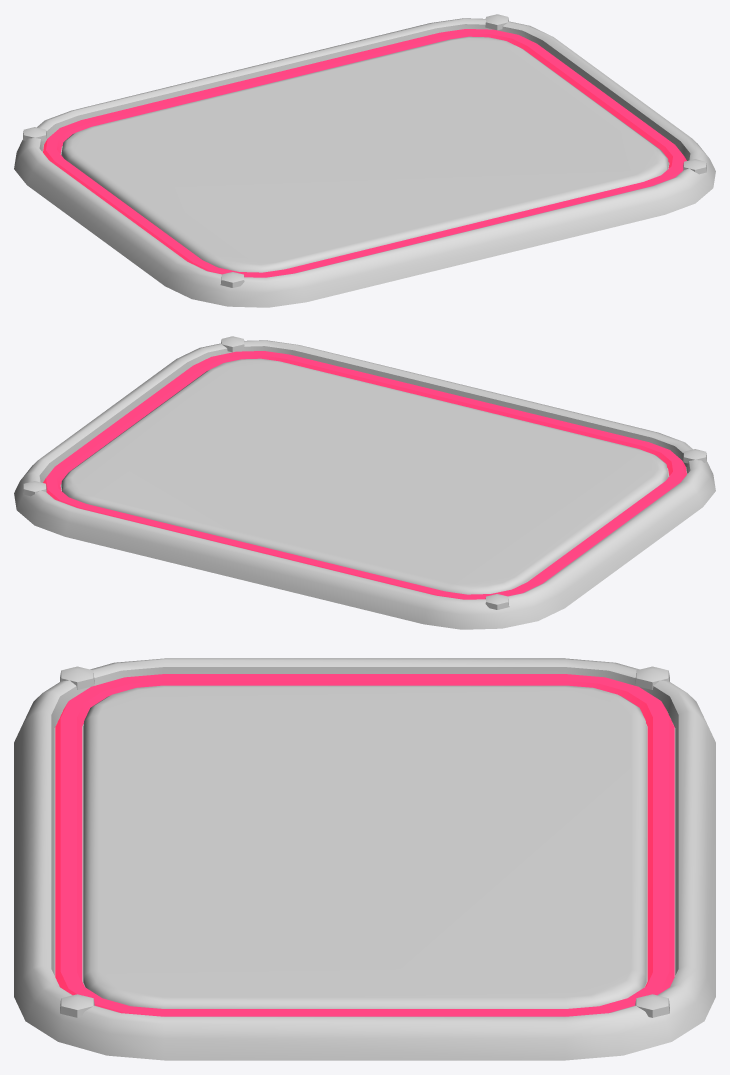
The model's file is Hub_Pad.fbx.
The picture shows the model from 3 angles, top to bottom: view 1: azimuth 30°, elevation 25°; view 2: azimuth 150°, elevation 25°; view 3: azimuth 270°, elevation 25°; orthographic projection. The views are drawn at different scales.
Visible parts, largest first — view 1: Pad_Tint, Pad_Body, Pad_Glow; view 2: Pad_Tint, Pad_Body, Pad_Glow; view 3: Pad_Tint, Pad_Body, Pad_Glow.
Part boxes in pixels (bbox=[...]): Pad_Tint: bbox=[61, 36, 668, 272]; Pad_Body: bbox=[14, 14, 715, 307]; Pad_Glow: bbox=[43, 29, 686, 277]; Pad_Tint: bbox=[61, 358, 668, 594]; Pad_Body: bbox=[14, 336, 715, 629]; Pad_Glow: bbox=[43, 351, 686, 599]; Pad_Tint: bbox=[83, 685, 646, 1008]; Pad_Body: bbox=[14, 658, 715, 1060]; Pad_Glow: bbox=[55, 674, 674, 1016].
Size of the model in its own units: 13.5 by 0.6 by 10.5.
